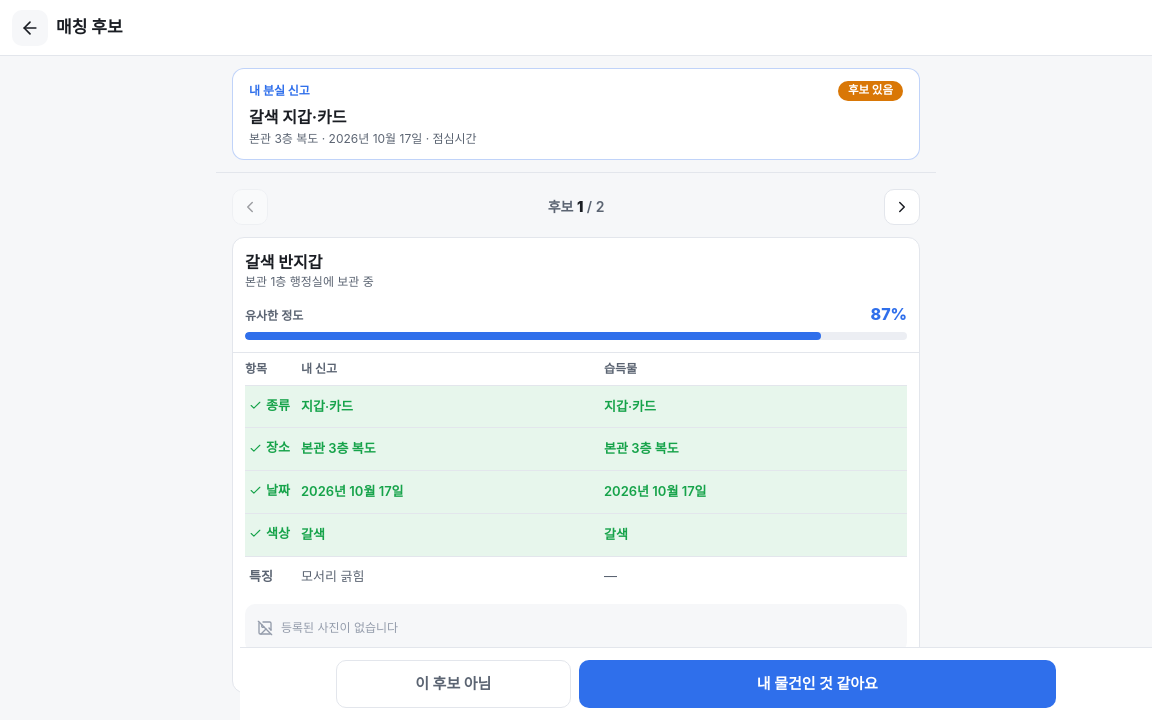
Test: MatchesPage › [이 후보 아님] 후 목록에서 사라지고, 마지막 후보까지 빼면 0건 안내
Check: the element named "후보 갈색 반지갑" is shown, box [232,236,920,692]
Click the button "이 후보 아님" at (453, 684), box [336,660,571,708]
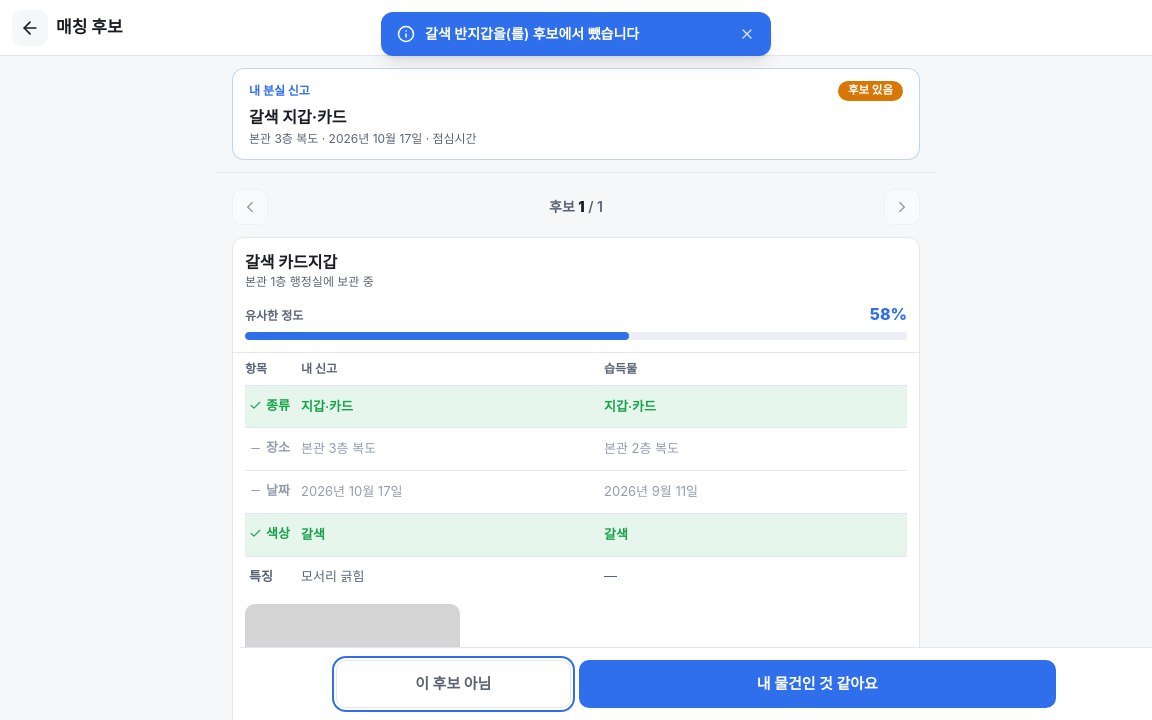
Click the button "이 후보 아님" at (453, 684), box [336,660,571,708]
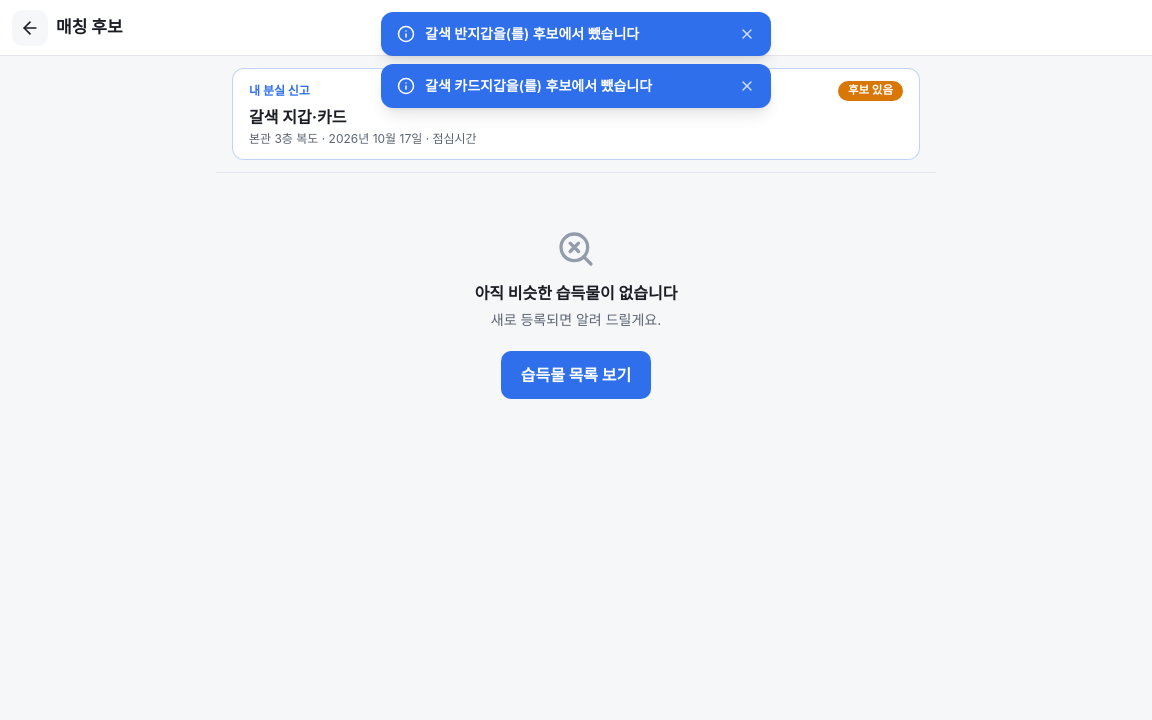
Check: the text "아직 비슷한 습득물이 없습니다" is shown, box [475,280,677,304]
